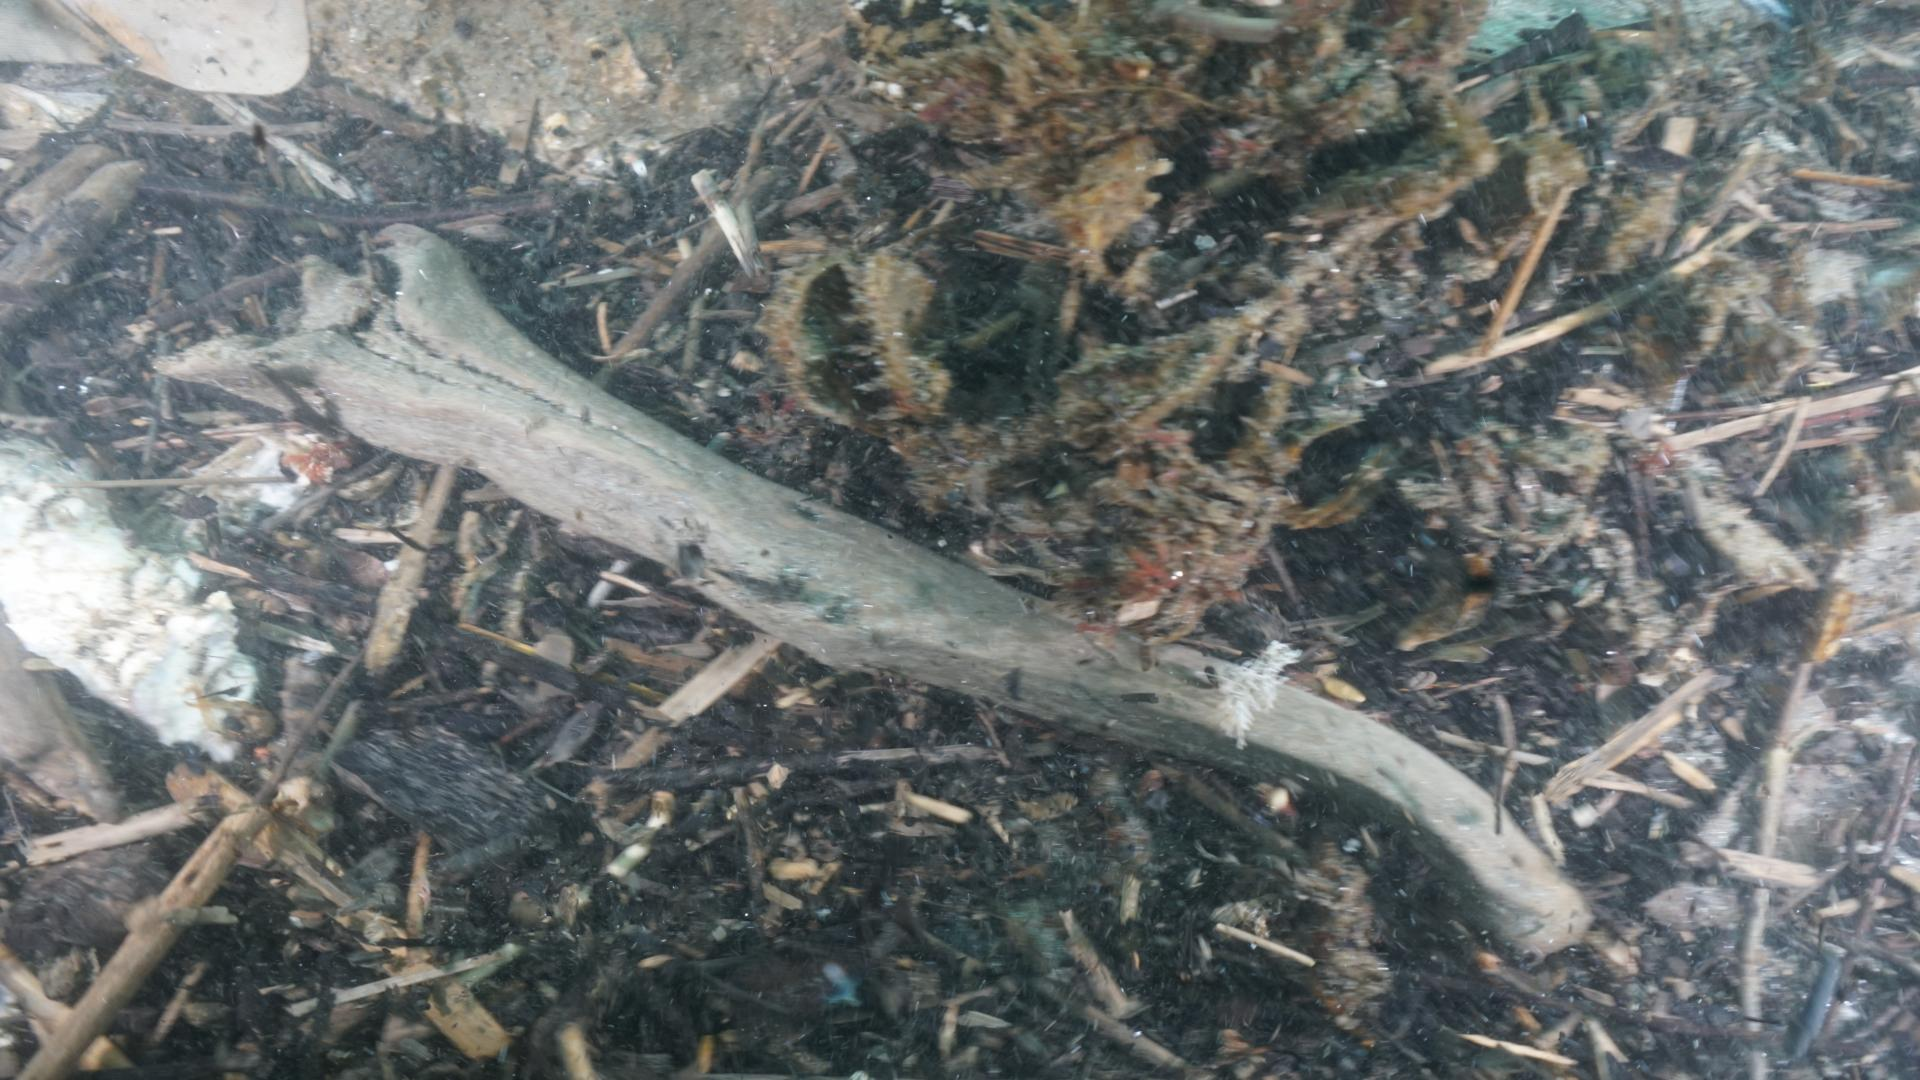wood: (149, 220, 1596, 965)
